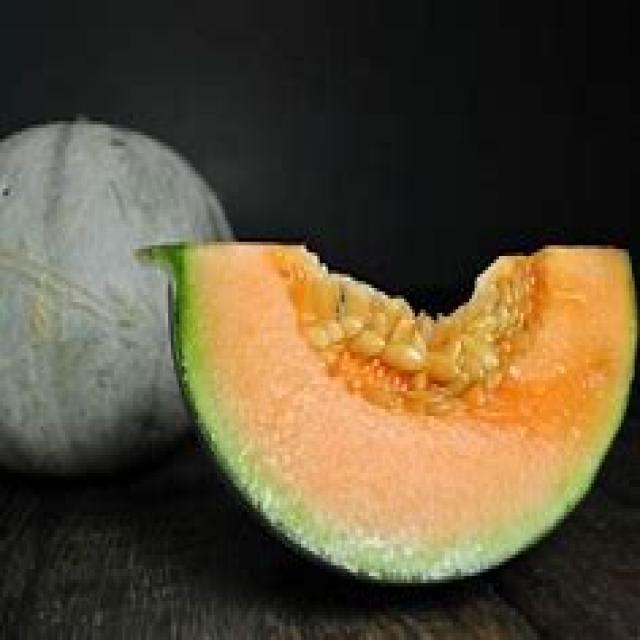Hami Melon: (162, 242, 639, 587), (2, 119, 233, 479)
